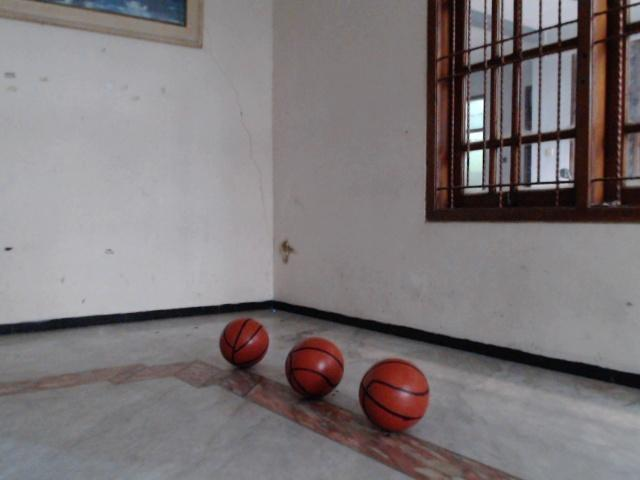Sports-Ball: (353, 352, 433, 433), (284, 338, 343, 397), (217, 319, 275, 369)
